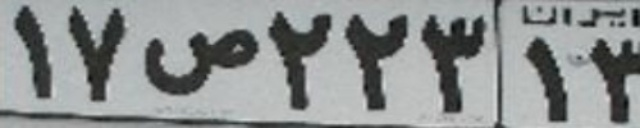1: (524, 35, 570, 122), (13, 5, 55, 98)
2: (345, 12, 409, 110), (270, 11, 331, 109)
3: (420, 13, 486, 114), (589, 36, 638, 122)
7: (65, 5, 128, 102)
saat: (143, 27, 259, 96)
